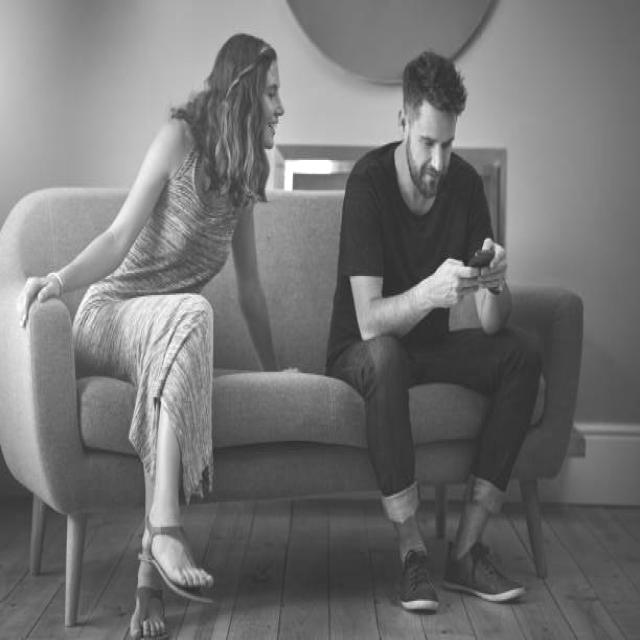Looking away: (251, 54, 283, 154)
Phone use: (349, 49, 518, 338)
